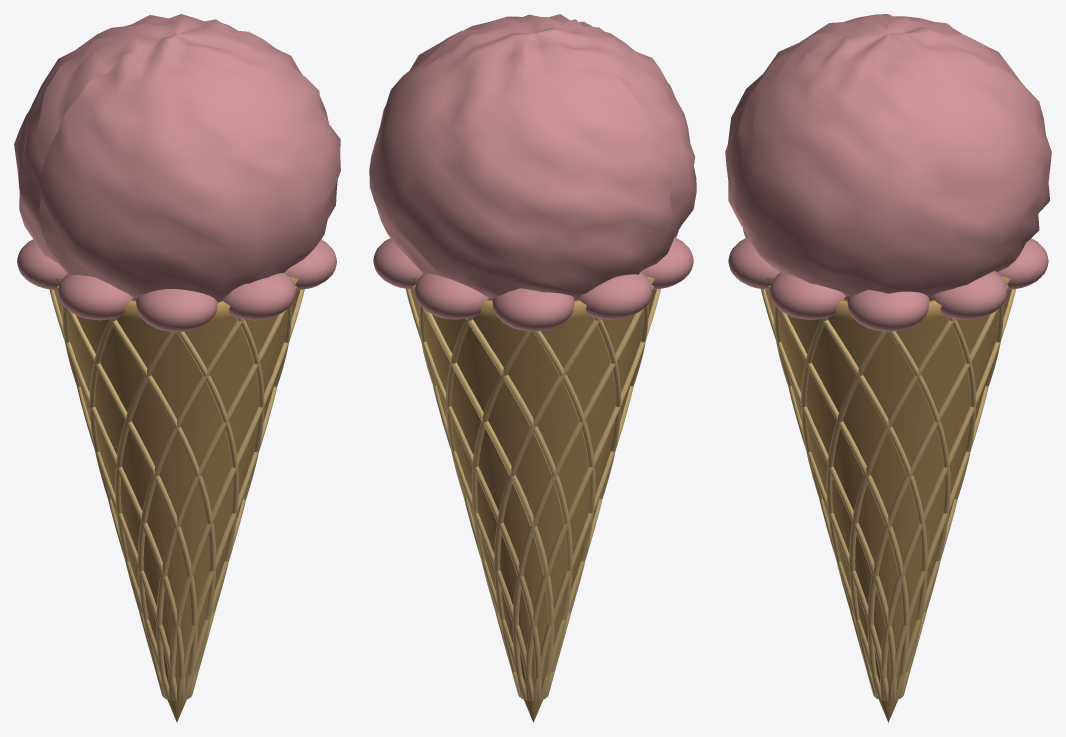
Rendered from props_p7__p7_ice_cream_strawberry.glb.
3 renders of one model, left to right at view 1: azimuth 30°, elevation 25°; view 2: azimuth 150°, elevation 25°; view 3: azimuth 270°, elevation 25°, orthographic.
Visible parts, largest first — view 1: ice_cream_scoop, reference_static_surfaces (×2), wafer_cone; view 2: ice_cream_scoop, reference_static_surfaces (×2), wafer_cone; view 3: ice_cream_scoop, reference_static_surfaces (×2), wafer_cone.
Boxes of the visible parts, left/top/right/bottom form: ice_cream_scoop: left=14, top=14, right=340, bottom=302; reference_static_surfaces (×2): left=17, top=239, right=336, bottom=701; wafer_cone: left=54, top=277, right=300, bottom=722; ice_cream_scoop: left=369, top=14, right=696, bottom=299; reference_static_surfaces (×2): left=373, top=230, right=693, bottom=700; wafer_cone: left=410, top=276, right=656, bottom=722; ice_cream_scoop: left=725, top=14, right=1051, bottom=297; reference_static_surfaces (×2): left=728, top=229, right=1048, bottom=700; wafer_cone: left=765, top=276, right=1011, bottom=722.
Bounding box in the file's own units: 0.0753 × 0.1742 × 0.0745.
